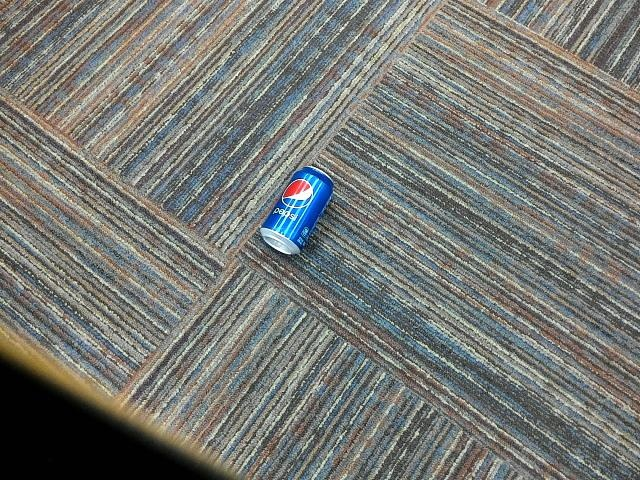can: (252, 167, 345, 264)
